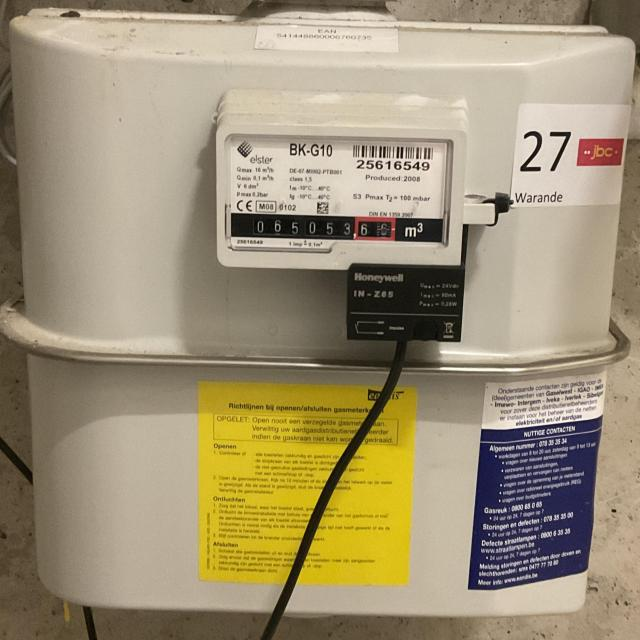gaz_meter: (224, 135, 453, 249)
indication: (232, 214, 401, 241)
